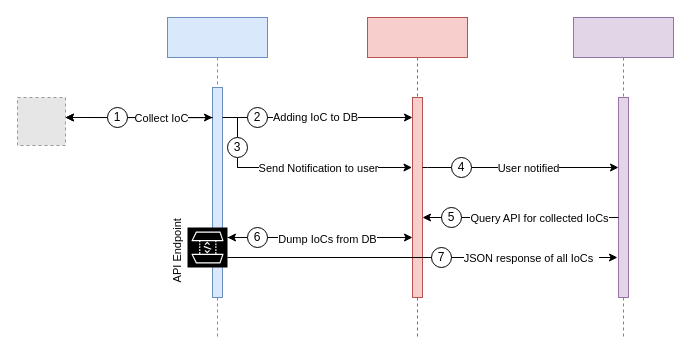
This 691x355 diagram has some shape labels left out. Grey dashed boxes stand in for pictures. Here are the shapes that lost their labels. From the top down, the box of each, then its label:
(166, 16, 268, 338): Engine
(366, 16, 468, 338): Database
(572, 16, 674, 338): End-user
